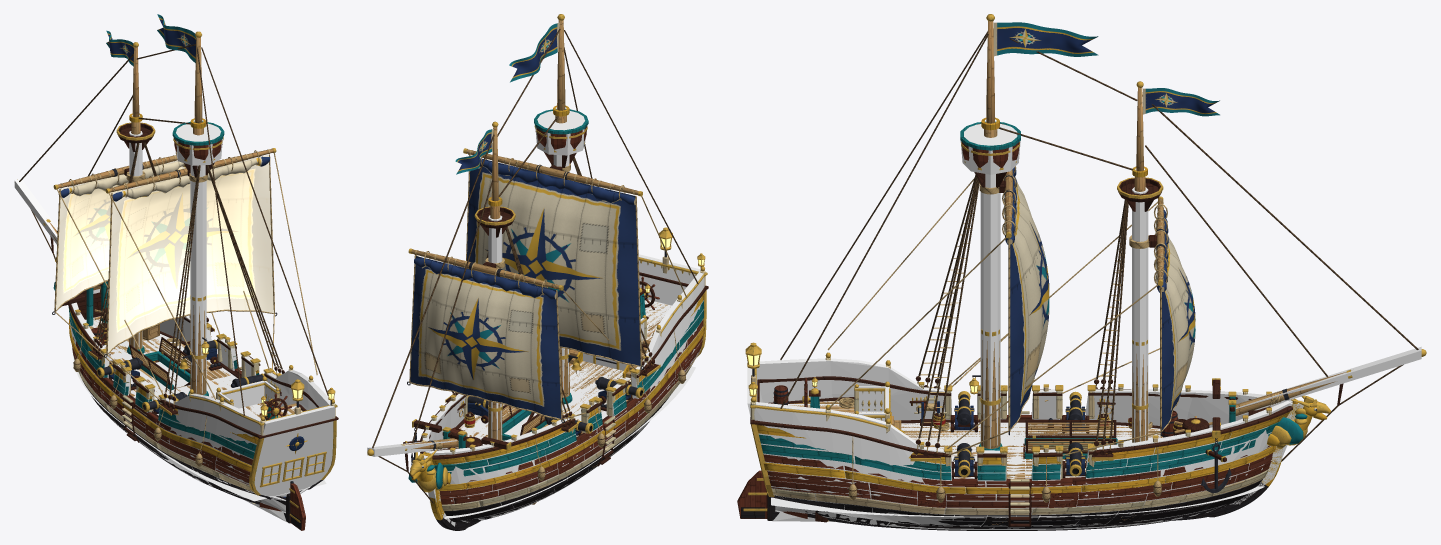
Rendered from brigantine.glb.
3 renders of one model, left to right at view 1: azimuth 30°, elevation 25°; view 2: azimuth 150°, elevation 25°; view 3: azimuth 270°, elevation 25°, orthographic. The views are drawn at different scales.
Parts seen in each view (by area): view 1: Hull, Sail, Sail_Fore, col_transom, col_mast, Sail_Furled, col_rail_0_P, col_rail_1_P, Sail_Furled_Fore, Yard, col_mast_top, mask_water (+16 smaller); view 2: Hull, Sail, Sail_Fore, Sail_Furled, col_deck_main_aft, Sail_Furled_Fore, col_transom, Yard, Yard_Fore, col_mast_top, Flag, col_rail_1_P (+9 smaller); view 3: Hull, Sail, Sail_Fore, col_mast, col_mast_fore, Flag, col_rail_0_S, col_rail_1_S, col_rail_0_P, col_deck_main_aft, col_bowsprit, HatchCover_Port (+12 smaller).
Boxes of the visible parts, bbox=[...] form: Hull: bbox=[17, 31, 338, 523]; Sail: bbox=[104, 154, 277, 357]; Sail_Fore: bbox=[52, 160, 185, 314]; col_transom: bbox=[254, 405, 334, 496]; col_mast: bbox=[190, 165, 206, 393]; Sail_Furled: bbox=[110, 150, 269, 201]; col_rail_0_P: bbox=[212, 402, 260, 468]; col_rail_1_P: bbox=[185, 393, 219, 450]; Sail_Furled_Fore: bbox=[58, 157, 185, 197]; Yard: bbox=[105, 148, 276, 193]; col_mast_top: bbox=[175, 123, 222, 165]; mask_water: bbox=[73, 357, 326, 501]; Hull: bbox=[367, 14, 708, 530]; Sail: bbox=[466, 155, 644, 369]; Sail_Fore: bbox=[407, 255, 564, 422]; Sail_Furled: bbox=[478, 155, 635, 205]; col_deck_main_aft: bbox=[562, 361, 630, 419]; Sail_Furled_Fore: bbox=[414, 251, 556, 299]; col_transom: bbox=[638, 254, 700, 305]; Yard: bbox=[463, 148, 642, 196]; Yard_Fore: bbox=[408, 248, 563, 290]; col_mast_top: bbox=[535, 111, 585, 155]; Flag: bbox=[509, 22, 559, 82]; col_rail_1_P: bbox=[656, 300, 682, 377]; Hull: bbox=[745, 14, 1426, 530]; Sail: bbox=[1008, 176, 1049, 435]; Sail_Fore: bbox=[1160, 234, 1195, 436]; col_mast: bbox=[980, 174, 1000, 448]; col_mast_fore: bbox=[1132, 187, 1148, 442]; Flag: bbox=[993, 22, 1098, 56]; col_rail_0_S: bbox=[754, 402, 836, 481]; col_rail_1_S: bbox=[830, 410, 891, 483]; col_rail_0_P: bbox=[756, 358, 832, 402]; col_deck_main_aft: bbox=[901, 422, 1025, 478]; col_bowsprit: bbox=[1235, 346, 1421, 416]; HatchCover_Port: bbox=[1025, 420, 1116, 438].
Size of the model in its own units: 8.16 by 19.01 by 23.51.
12 materials, 9 textured.
